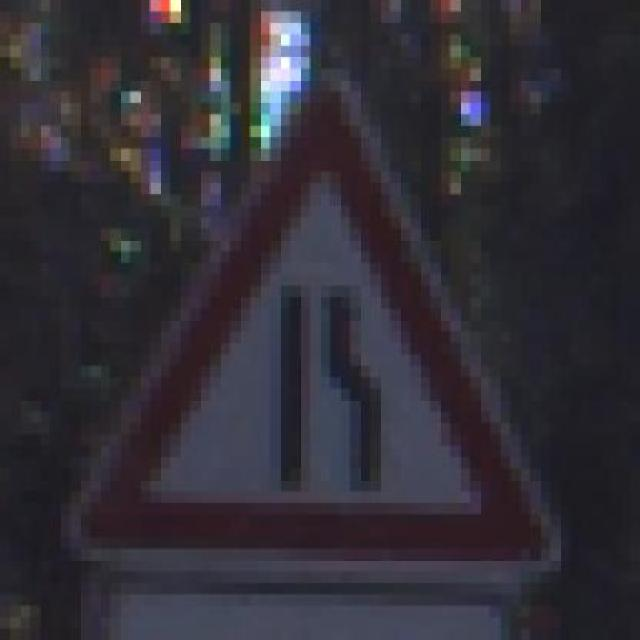-Road narrows on right: (49, 34, 560, 594)
